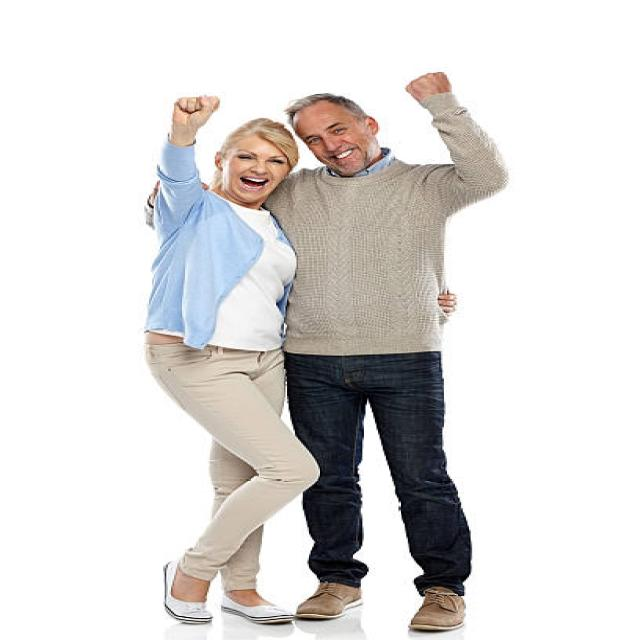Edited images: (116, 55, 522, 640)
